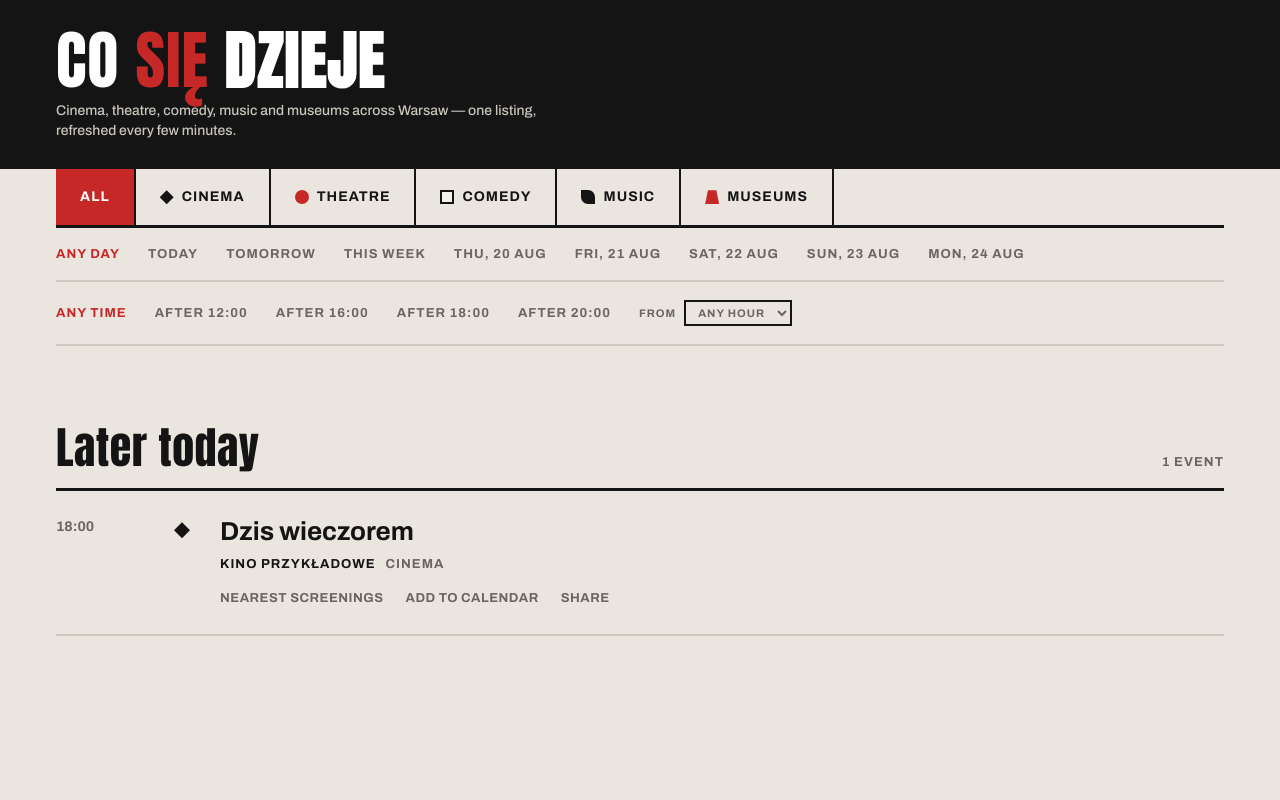
Test: the day strip (GOI-88) › falls back to the empty state when there is nothing after the day either
Click the button "Tomorrow" at [271, 254], box [226,246,316,262]
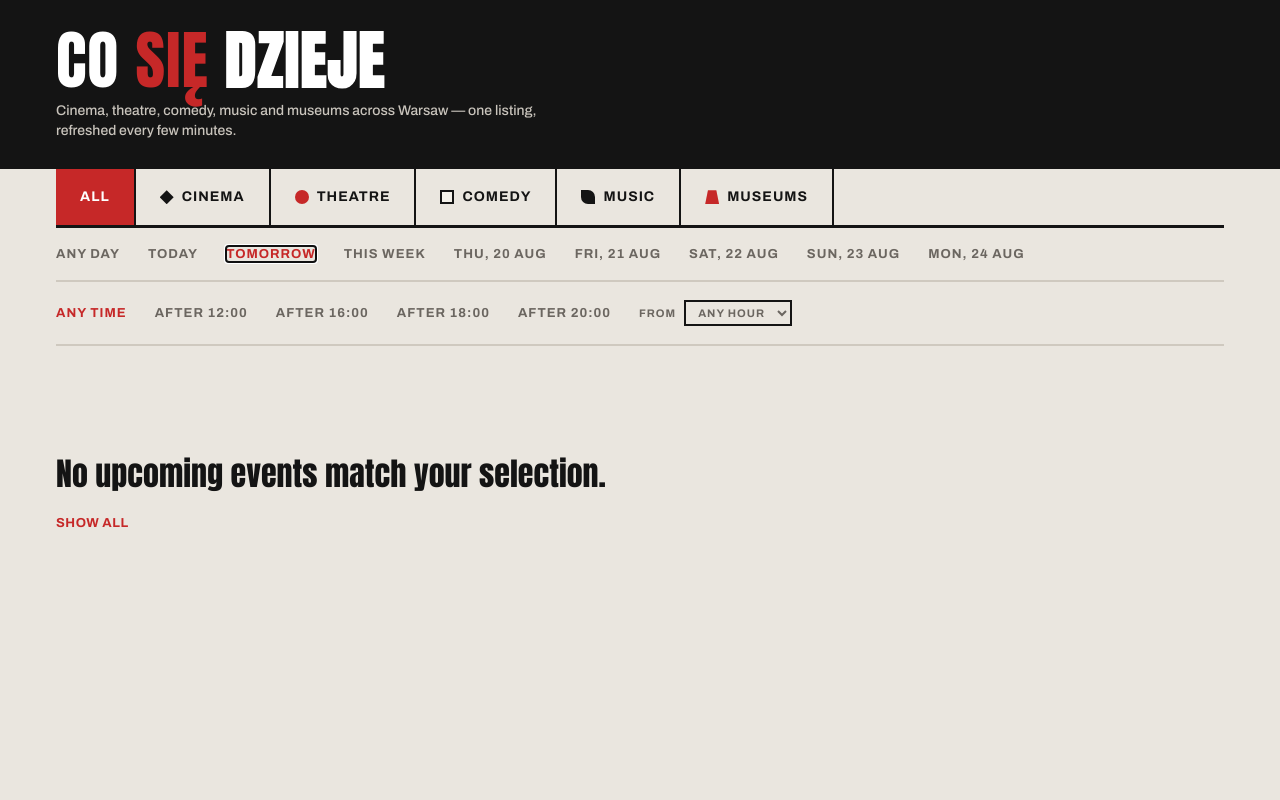
expect the text "No upcoming events match your selection." is shown: met, box [56,449,606,498]
